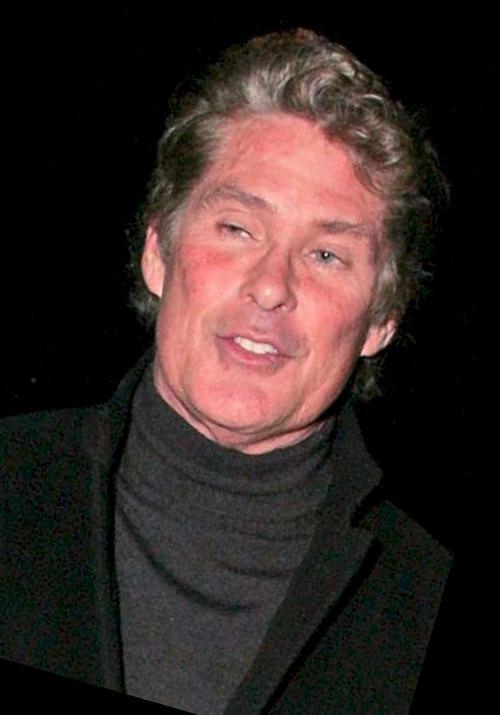Drunk: (181, 117, 361, 414)
